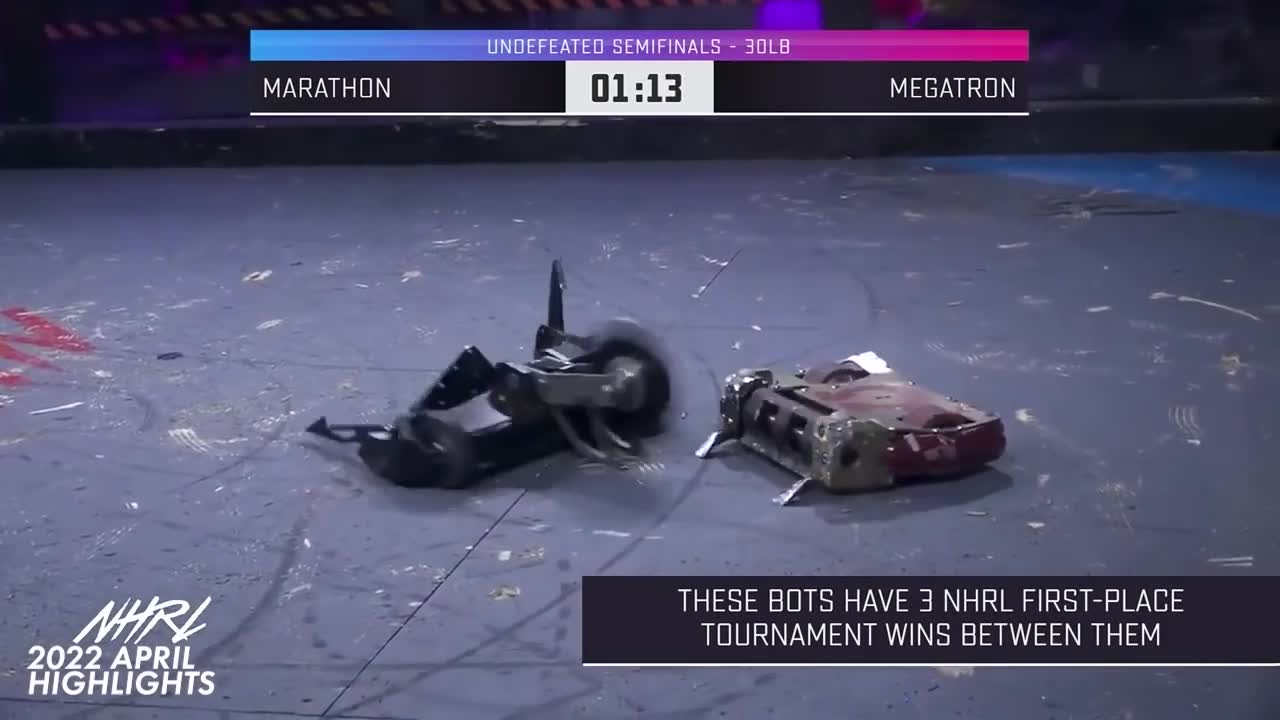combatbot: (305, 257, 675, 491), (697, 353, 1007, 506)
